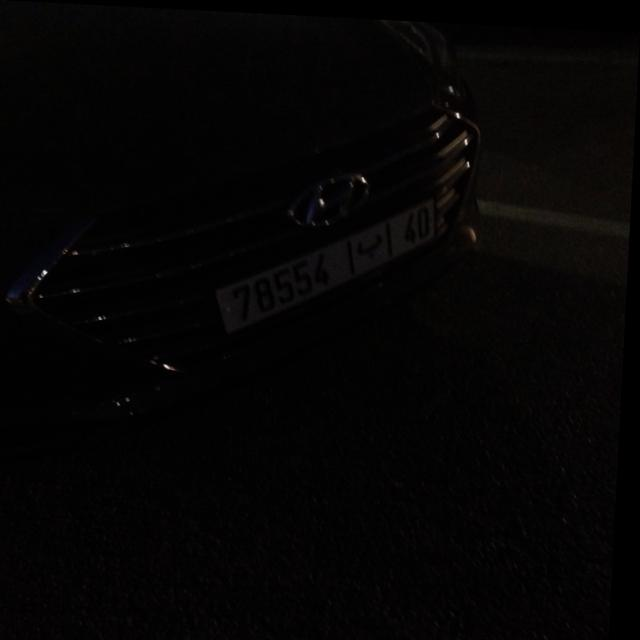License-Plate: (218, 194, 438, 331)
